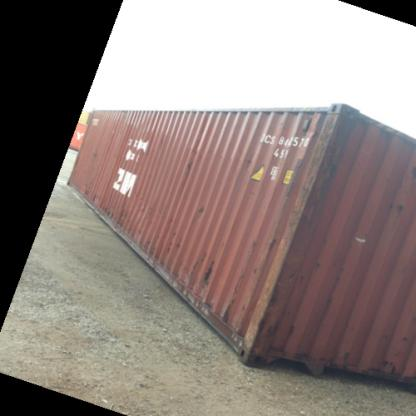Damage: (287, 107, 348, 232), (248, 262, 290, 352), (185, 249, 218, 312), (221, 273, 248, 332), (323, 257, 346, 313), (367, 353, 398, 378), (104, 200, 130, 229), (136, 201, 154, 238), (383, 194, 409, 215), (262, 230, 279, 260), (80, 182, 100, 204), (161, 232, 182, 250), (194, 196, 208, 217), (375, 324, 389, 342), (181, 151, 195, 168), (400, 327, 410, 346), (242, 150, 252, 166), (86, 150, 100, 158), (341, 345, 349, 358)
